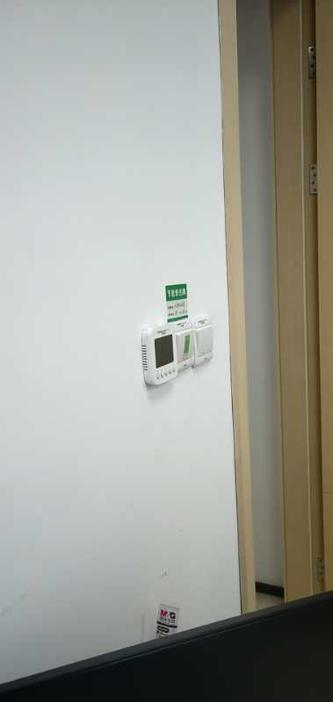switch: (202, 326, 229, 362), (175, 329, 196, 362)
